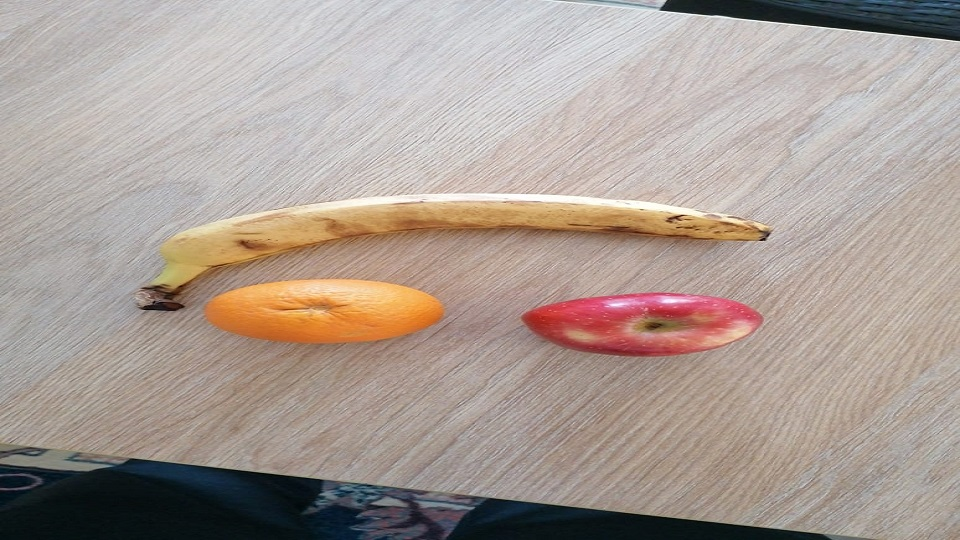elma: (519, 293, 766, 357)
muz: (135, 193, 771, 294)
portakal: (201, 277, 445, 346)
